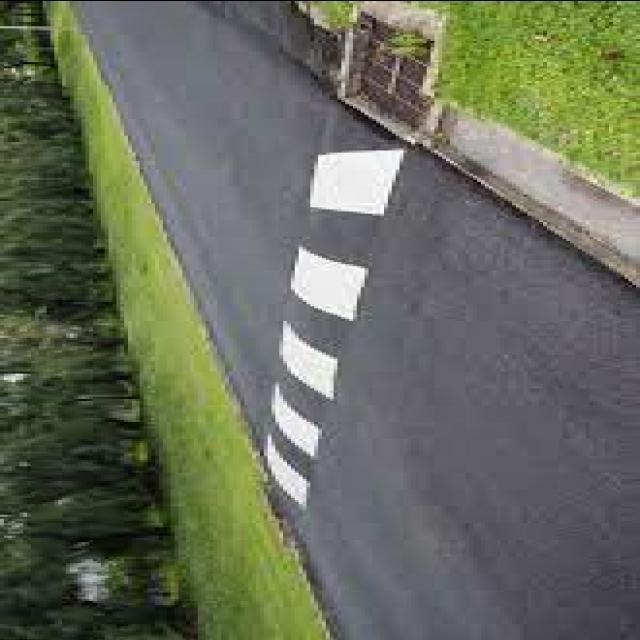speedbreaker: (258, 120, 411, 507)
